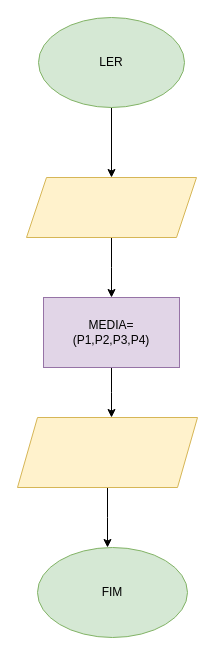
Some shapes in this 215 by 655 pixel diagram are drawn without their labels. The box of each missing label's shape, as (x1, y1, x2, y2) in pixels:
ESCREVER MEDIA: (16, 416, 198, 488)
ler p1,p2,p3,p4: (26, 176, 196, 238)
